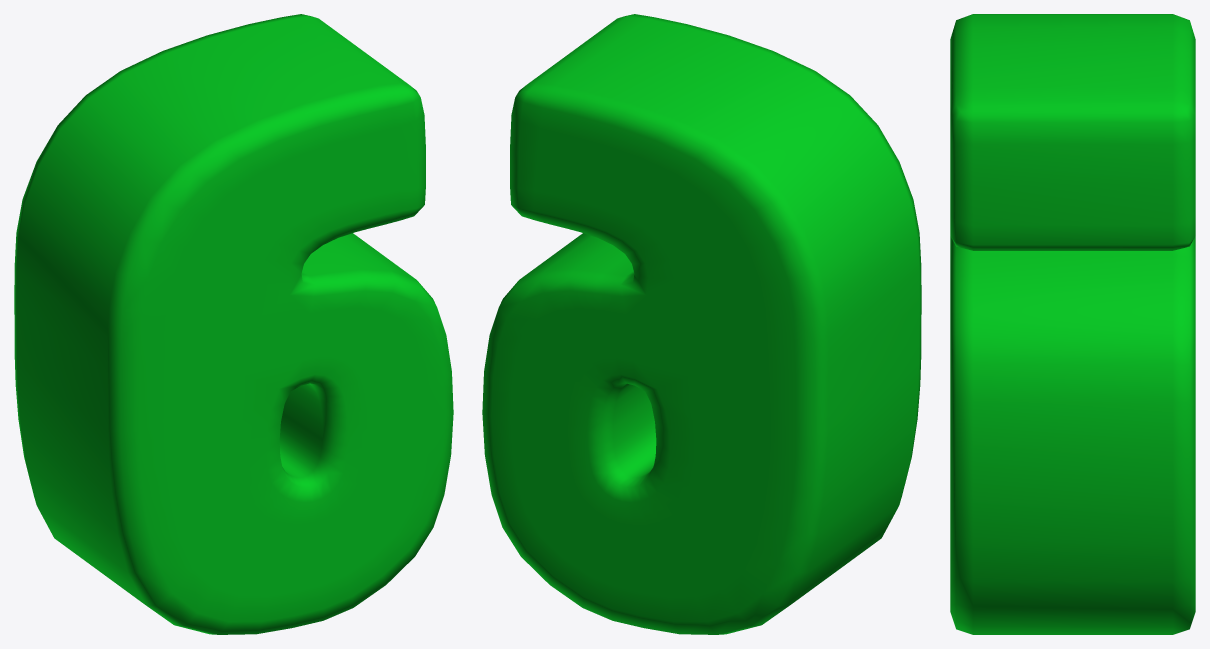
3 views of the same model, side by side, from view 1: azimuth 30°, elevation 25°; view 2: azimuth 150°, elevation 25°; view 3: azimuth 270°, elevation 25° (orthographic). The views are drawn at different scales.
Parts seen in each view (by area): view 1: A:Mesh6_numbers_0; view 2: A:Mesh6_numbers_0; view 3: A:Mesh6_numbers_0.
Boxes of the visible parts, x1,y1,x2,y2 form: A:Mesh6_numbers_0: (14, 14, 453, 634); A:Mesh6_numbers_0: (482, 14, 921, 634); A:Mesh6_numbers_0: (950, 14, 1195, 634).
Bounding box in the file's own units: 23.99 × 34.82 × 13.53.
